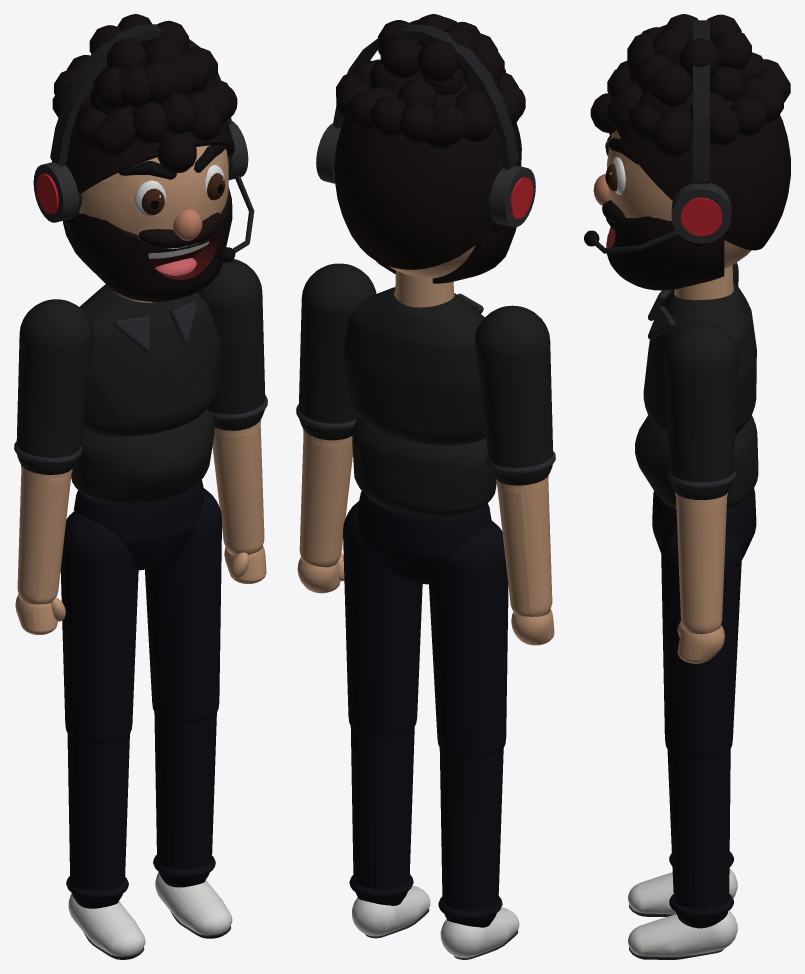
File: ewa_red1.glb
The picture shows the model from 3 angles, left to right: view 1: azimuth 30°, elevation 25°; view 2: azimuth 150°, elevation 25°; view 3: azimuth 270°, elevation 25°; orthographic projection. The views are drawn at different scales.
Visible parts, largest first — view 1: creature; view 2: creature; view 3: creature.
Boxes of the visible parts, left/top/right/bottom form: creature: left=14, top=14, right=267, bottom=959; creature: left=296, top=14, right=555, bottom=959; creature: left=584, top=14, right=790, bottom=959.
Size of the model in its own units: 0.2853 by 1 by 0.2065.
